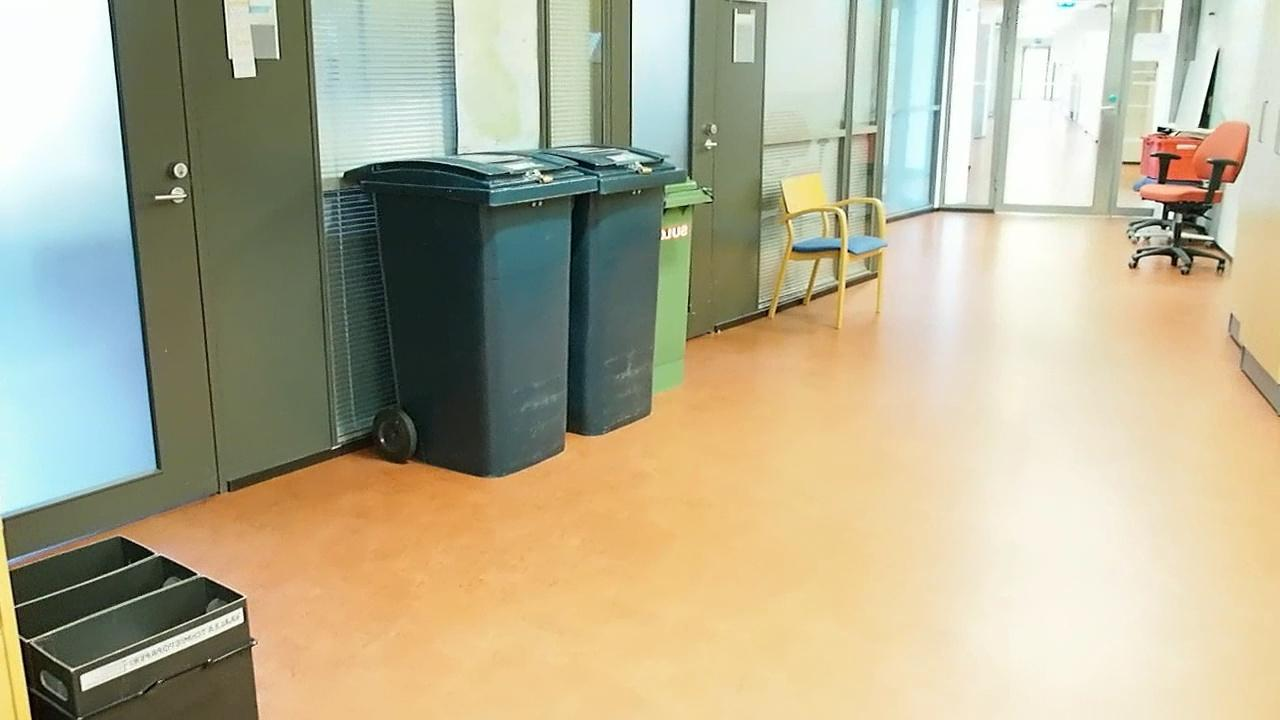chair: (1131, 116, 1256, 275), (770, 173, 885, 323)
trashbin: (343, 139, 594, 482), (594, 139, 716, 444)
